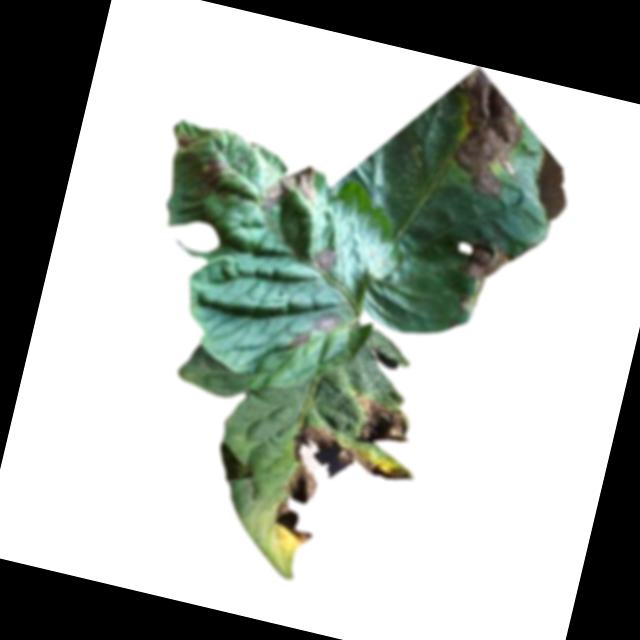Early_blight: (262, 421, 419, 575), (436, 63, 537, 203), (345, 391, 417, 453), (261, 157, 324, 219), (456, 236, 516, 294), (287, 305, 345, 358), (191, 152, 230, 189), (311, 245, 339, 277), (174, 133, 195, 152)
